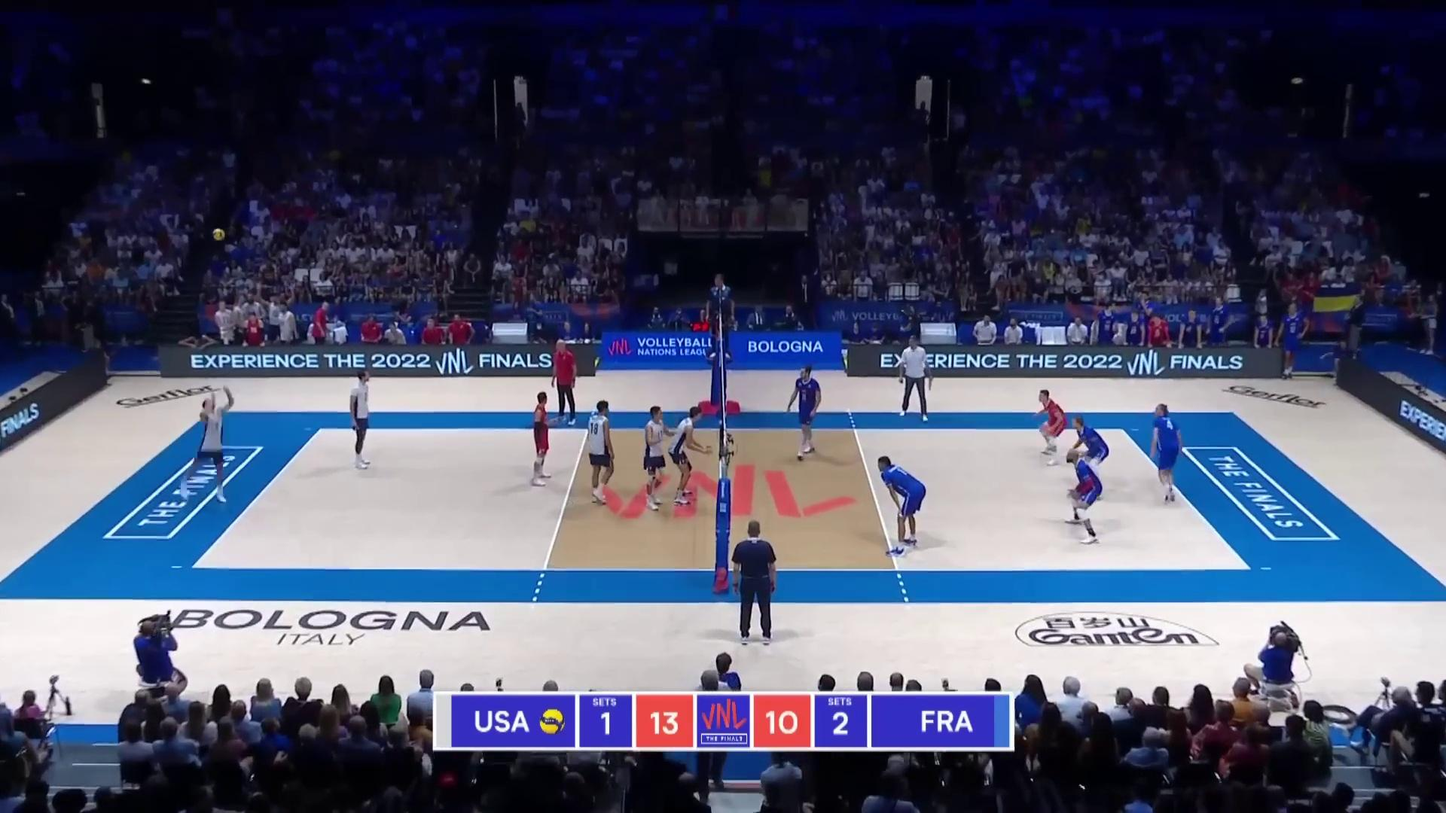player: (181, 388, 233, 502), (878, 454, 929, 551), (1066, 443, 1102, 544), (580, 402, 615, 503), (671, 408, 707, 504), (1070, 417, 1111, 501), (638, 407, 672, 508), (788, 366, 823, 459), (1149, 405, 1181, 502), (1035, 391, 1070, 465), (348, 371, 372, 467), (533, 393, 556, 488)
refree: (736, 523, 782, 643), (707, 276, 734, 359)
